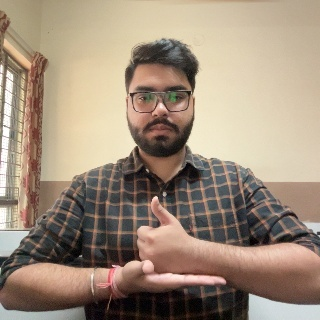Face: (128, 40, 196, 160)
Help: (105, 195, 223, 303)
